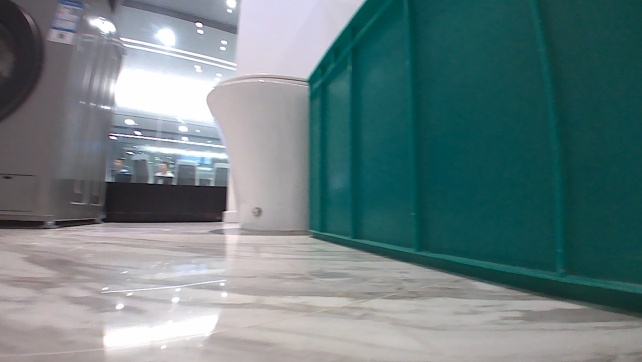toilet: (203, 73, 312, 232)
washing_machine1: (0, 0, 125, 230)
